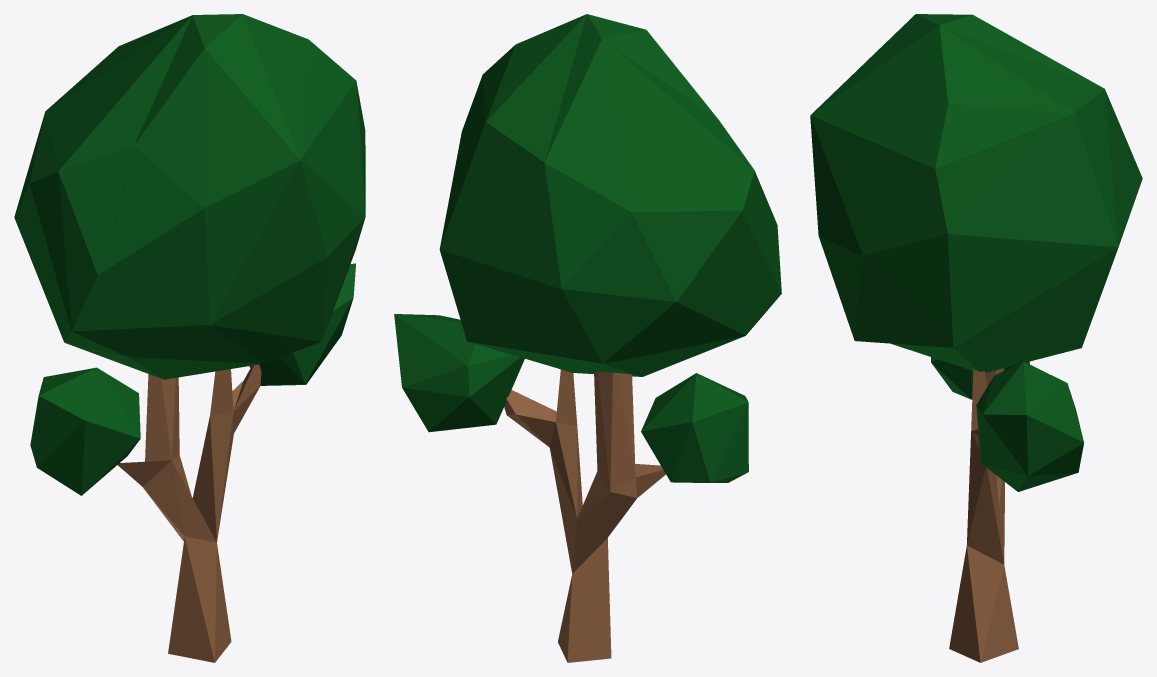
File: tree1.glb
3 views of the same model, side by side, from view 1: azimuth 30°, elevation 25°; view 2: azimuth 150°, elevation 25°; view 3: azimuth 270°, elevation 25° (orthographic). The views are drawn at different scales.
Visible parts, largest first — view 1: Tree 29; view 2: Tree 29; view 3: Tree 29.
Part boxes in pixels (x1,y1,x2,y2): Tree 29: (14, 14, 365, 662); Tree 29: (394, 14, 781, 662); Tree 29: (810, 14, 1142, 662).
Bounding box in the file's own units: 1.04 × 1.86 × 0.8846.
